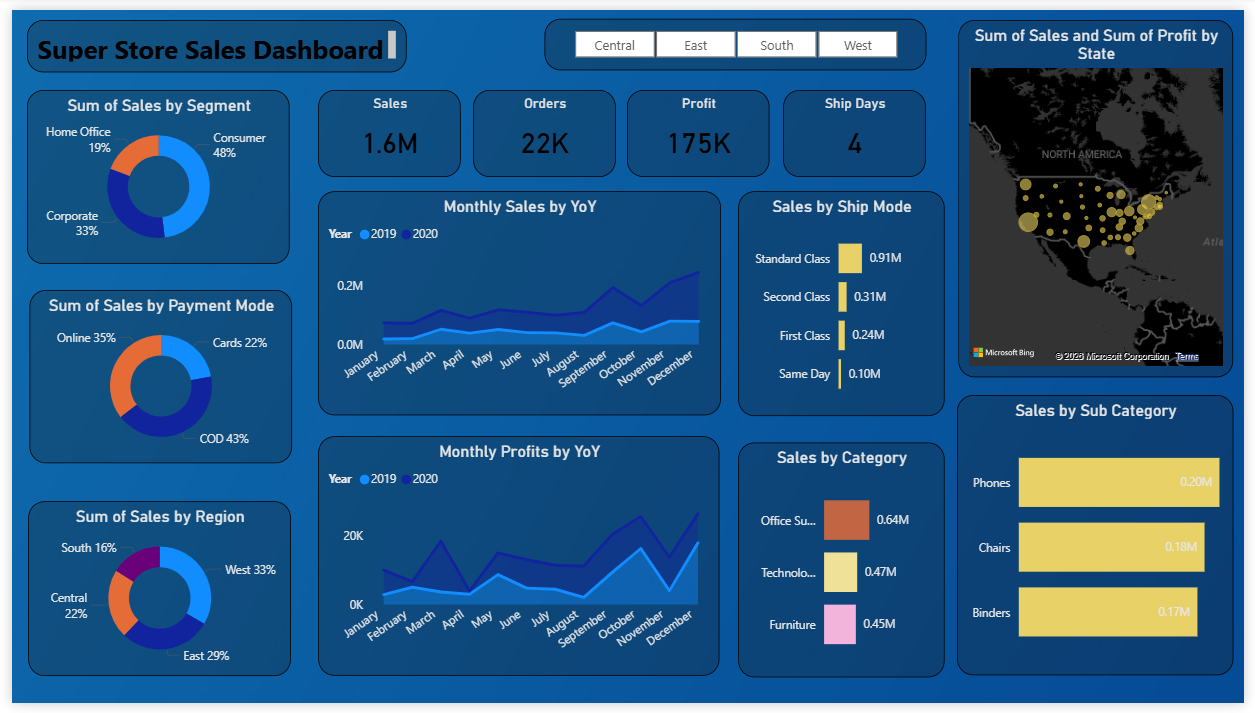

The dashboard page shown, as its layout file describes it:
{"tool":"powerbi","page":{"name":"Page 1","canvas":[1280,720],"ordinal":0},"visuals":[{"type":"clusteredBarChart","title":"Sales by Category","fields":{"Category":["SuperStore_Sales_Dataset.Category"],"Y":["Sum(SuperStore_Sales_Dataset.Sales)"]},"box":[754.7,448.7,214.1,244.3],"z":0},{"type":"clusteredBarChart","title":"Sales by Sub Category","fields":{"Category":["SuperStore_Sales_Dataset.Sub-Category"],"Y":["Sum(SuperStore_Sales_Dataset.Sales)"]},"box":[981.4,400,287.1,291.4],"z":1000},{"type":"clusteredBarChart","title":"Sales by Ship Mode","fields":{"Category":["SuperStore_Sales_Dataset.Ship Mode"],"Y":["Sum(SuperStore_Sales_Dataset.Sales)"]},"box":[754.7,188,214.1,233.3],"z":2000},{"type":"stackedAreaChart","title":"Monthly Sales by YoY","fields":{"Category":["SuperStore_Sales_Dataset.Order Date.Variation.Date Hierarchy.Month","SuperStore_Sales_Dataset.Order Date.Variation.Date Hierarchy.Day"],"Y":["Sum(SuperStore_Sales_Dataset.Sales)"],"Series":["SuperStore_Sales_Dataset.Order Date.Variation.Date Hierarchy.Year"]},"box":[318,188,418,233],"z":3000},{"type":"stackedAreaChart","title":"Monthly Profits by YoY","fields":{"Category":["SuperStore_Sales_Dataset.Order Date.Variation.Date Hierarchy.Month","SuperStore_Sales_Dataset.Order Date.Variation.Date Hierarchy.Day"],"Series":["SuperStore_Sales_Dataset.Order Date.Variation.Date Hierarchy.Year"],"Y":["Sum(SuperStore_Sales_Dataset.Profit)"]},"box":[318.6,442.9,417.1,248.6],"z":4000},{"type":"map","fields":{"Category":["SuperStore_Sales_Dataset.State"],"Size":["Sum(SuperStore_Sales_Dataset.Sales)"]},"box":[982.9,10,285.7,371.4],"z":5000},{"type":"donutChart","fields":{"Category":["SuperStore_Sales_Dataset.Segment"],"Y":["Sum(SuperStore_Sales_Dataset.Sales)"]},"box":[15.1,83.7,273.1,181.1],"z":6000},{"type":"donutChart","fields":{"Category":["SuperStore_Sales_Dataset.Region"],"Y":["Sum(SuperStore_Sales_Dataset.Sales)"]},"box":[17.1,510,272.9,181.4],"z":7000},{"type":"donutChart","fields":{"Y":["Sum(SuperStore_Sales_Dataset.Sales)"],"Series":["SuperStore_Sales_Dataset.Payment Mode"]},"box":[18.6,291.4,272.9,180],"z":8000},{"type":"slicer","fields":{"Values":["SuperStore_Sales_Dataset.Region"]},"box":[553,9.6,396.6,53.5],"z":9000},{"type":"textbox","box":[15,10,394,54],"z":10000},{"type":"card","title":"Sales","fields":{"Values":["Sum(SuperStore_Sales_Dataset.Sales)"]},"box":[318.4,83.7,148.2,90.6],"z":11000},{"type":"card","title":"Orders","fields":{"Values":["Sum(SuperStore_Sales_Dataset.Quantity)"]},"box":[478.9,83.7,148.2,90.6],"z":12000},{"type":"card","title":"Profit","fields":{"Values":["Sum(SuperStore_Sales_Dataset.Profit)"]},"box":[639.5,83.7,148.2,90.6],"z":13000},{"type":"card","title":"Ship Days","fields":{"Values":["Avg(SuperStore_Sales_Dataset.AvgDelivery)"]},"box":[801.4,83.7,148.2,90.6],"z":14000}]}

Visuals, with their boxes in screenshot pixels (x1, y1, x2, y2), scaled from the page's 1280x720 canvas onto the 1255x713 screenshot:
"Sales by Category" clusteredBarChart: 740:444:950:686
"Sales by Sub Category" clusteredBarChart: 962:396:1244:685
"Sales by Ship Mode" clusteredBarChart: 740:186:950:417
"Monthly Sales by YoY" stackedAreaChart: 312:186:722:417
"Monthly Profits by YoY" stackedAreaChart: 312:439:721:685
map - SuperStore_Sales_Dataset.State x Sum(SuperStore_Sales_Dataset.Sales): 964:10:1244:378
donutChart - SuperStore_Sales_Dataset.Segment x Sum(SuperStore_Sales_Dataset.Sales): 15:83:283:262
donutChart - SuperStore_Sales_Dataset.Region x Sum(SuperStore_Sales_Dataset.Sales): 17:505:284:685
donutChart - Sum(SuperStore_Sales_Dataset.Sales) x SuperStore_Sales_Dataset.Payment Mode: 18:289:286:467
slicer - SuperStore_Sales_Dataset.Region: 542:10:931:62
textbox: 15:10:401:63
"Sales" card: 312:83:457:173
"Orders" card: 470:83:615:173
"Profit" card: 627:83:772:173
"Ship Days" card: 786:83:931:173
